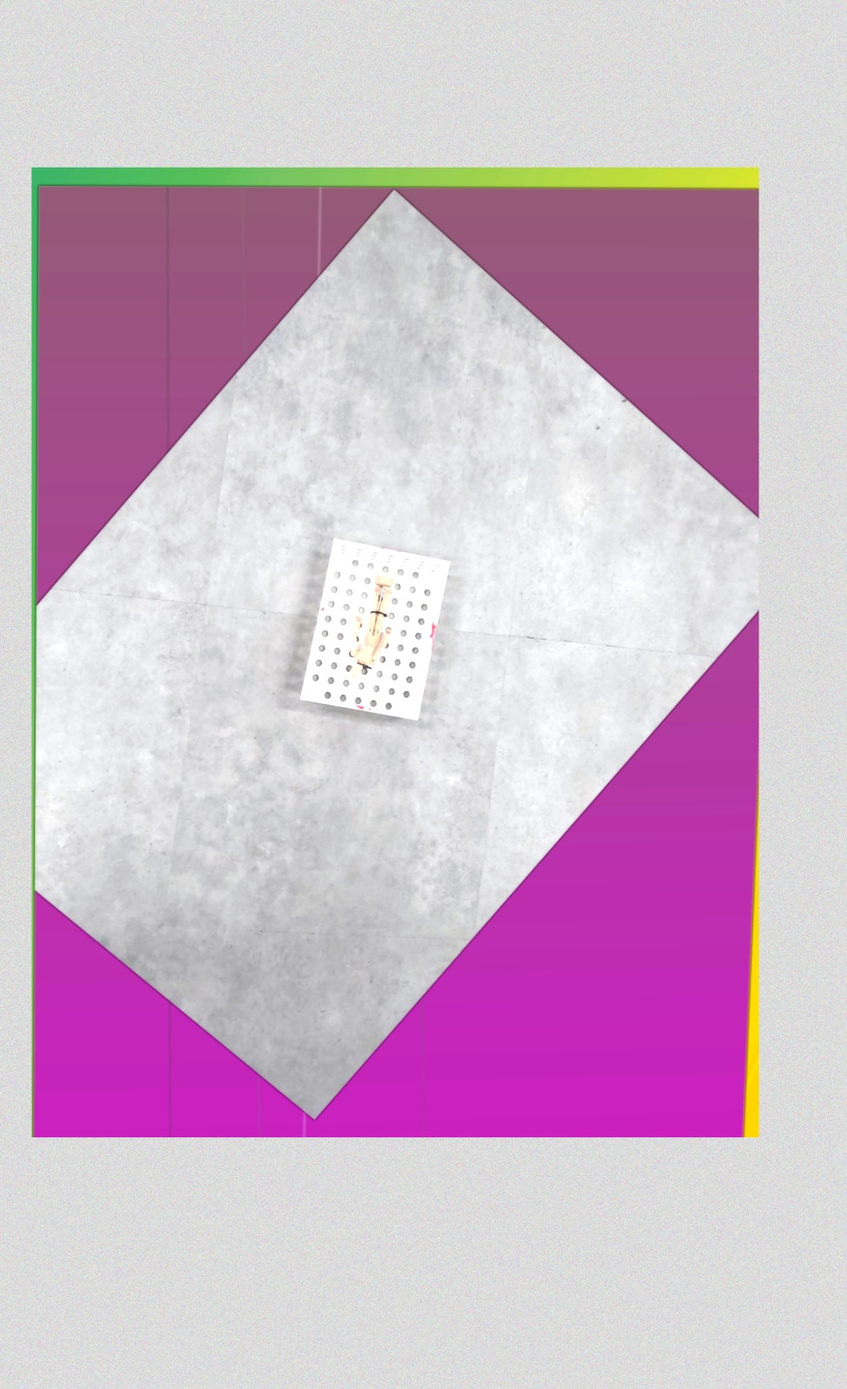basket: (297, 536, 456, 726)
mannequin: (347, 572, 399, 682)
